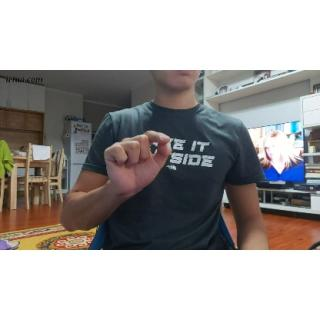FAA: (98, 127, 176, 199)
